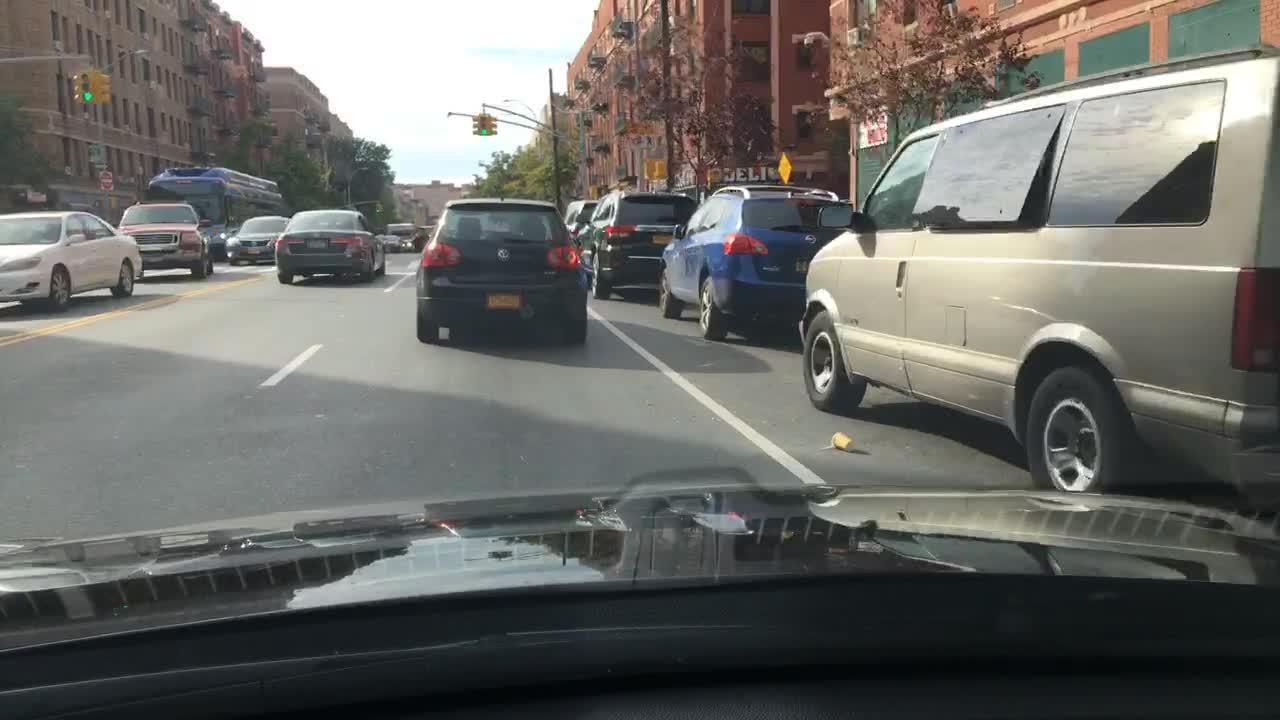Volkswagen: (497, 245, 512, 263)
